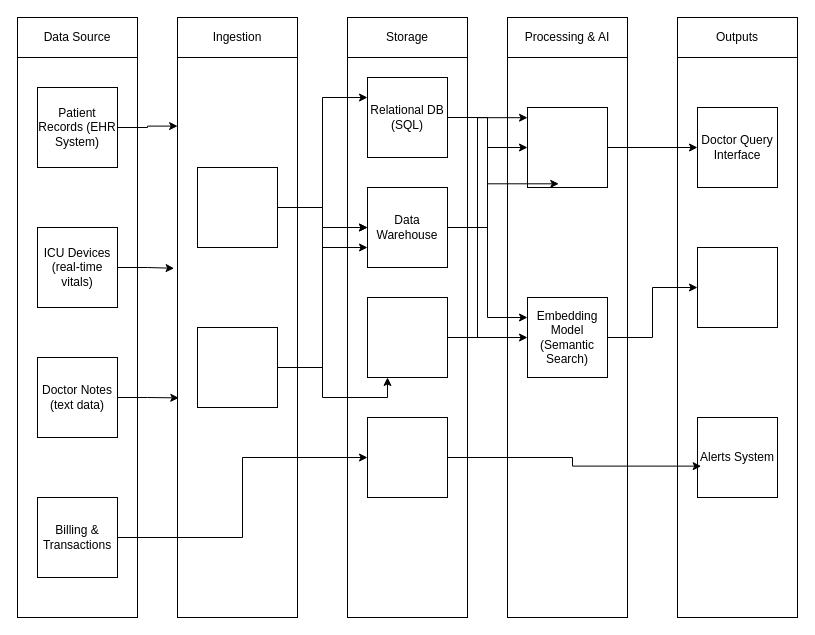
This 815x635 diagram has some shape labels left out. Here are the shapes that lost their labels. From the top down, the box of each, then its label:
(526, 106, 608, 188): ML Model (Readmission Prediction)
(196, 166, 278, 248): Batch Processing (ETL)
(696, 246, 778, 328): Analytics Dashboard
(366, 296, 448, 378): Data Lake (S3/Blob Storage)
(196, 326, 278, 408): Streaming
(366, 416, 448, 498): Vector Database (Semantic Search)
